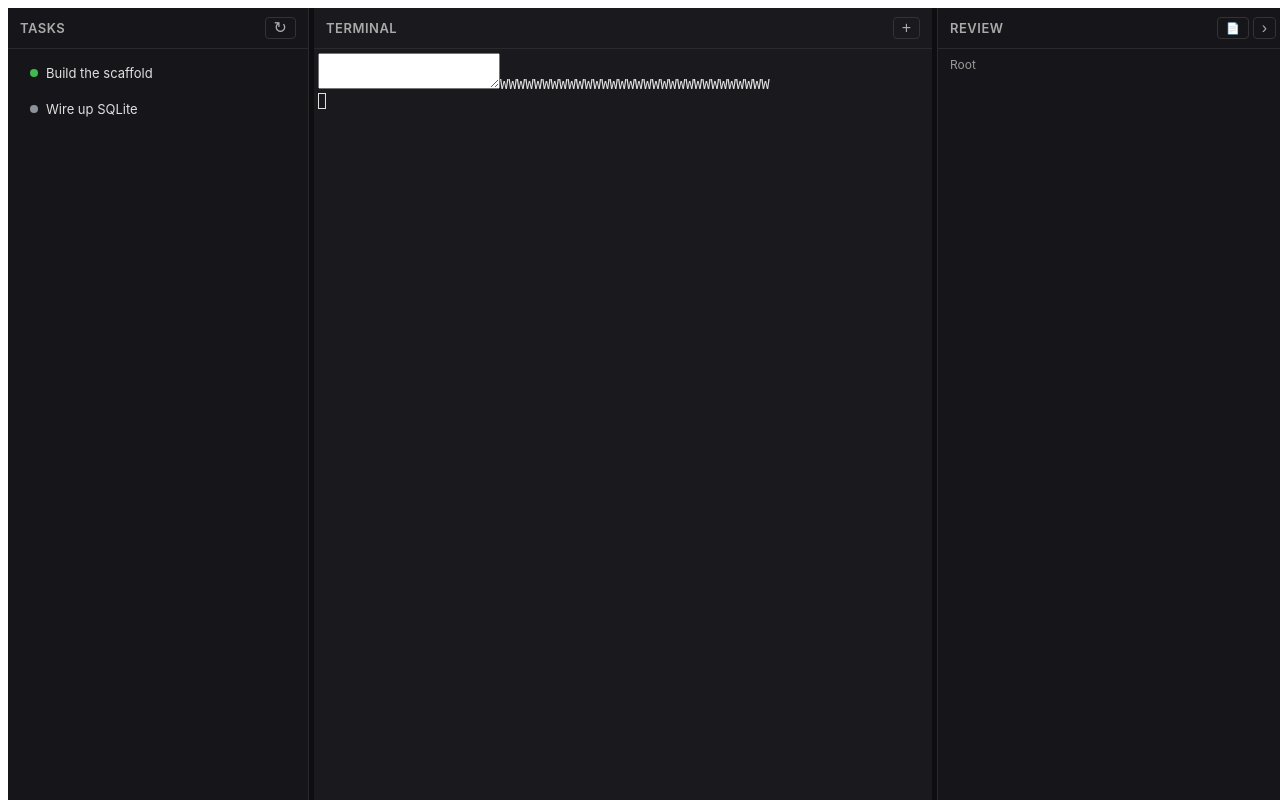
it: 3-panel layout › can collapse the review panel
Check: the text "Review" is shown, box [950,20,1004,36]
Click the button titled "Collapse review panel" at (1264, 28), box [1253,17,1276,39]
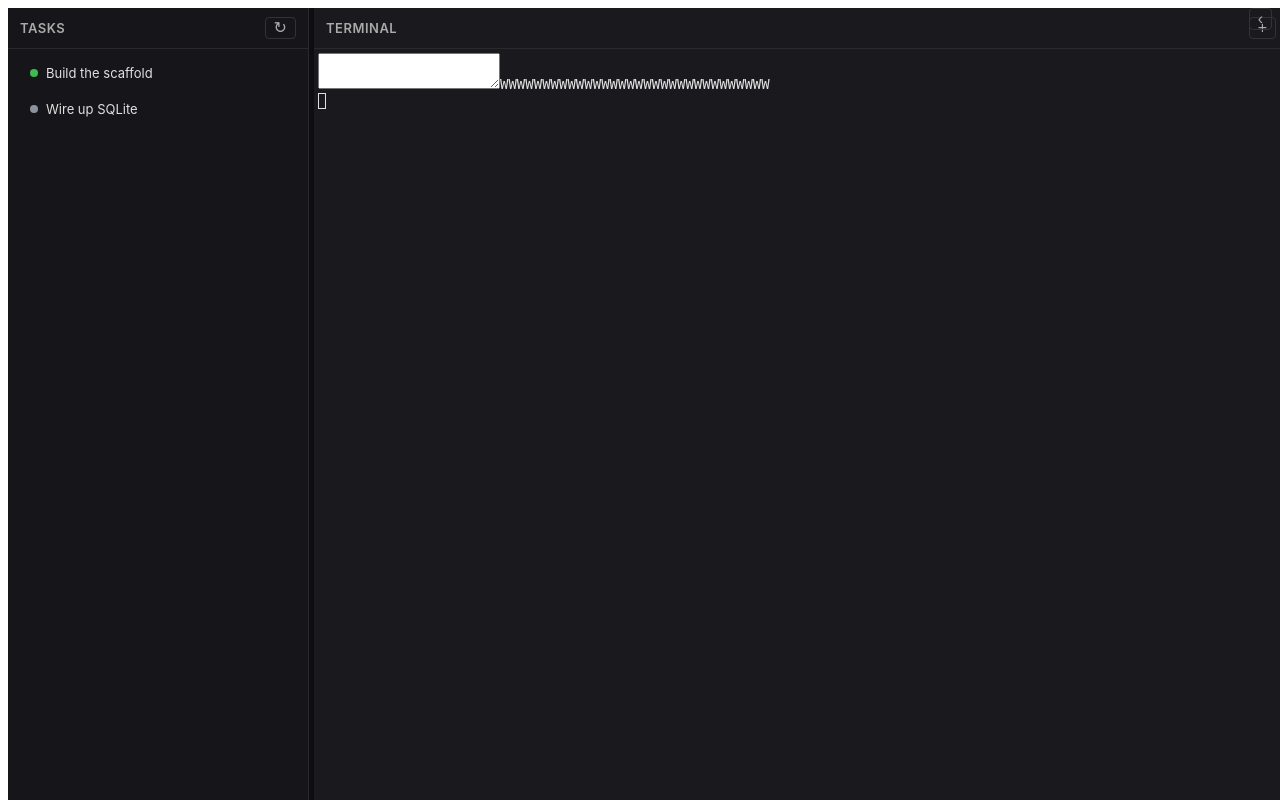
Check: the text "Review" is gone
